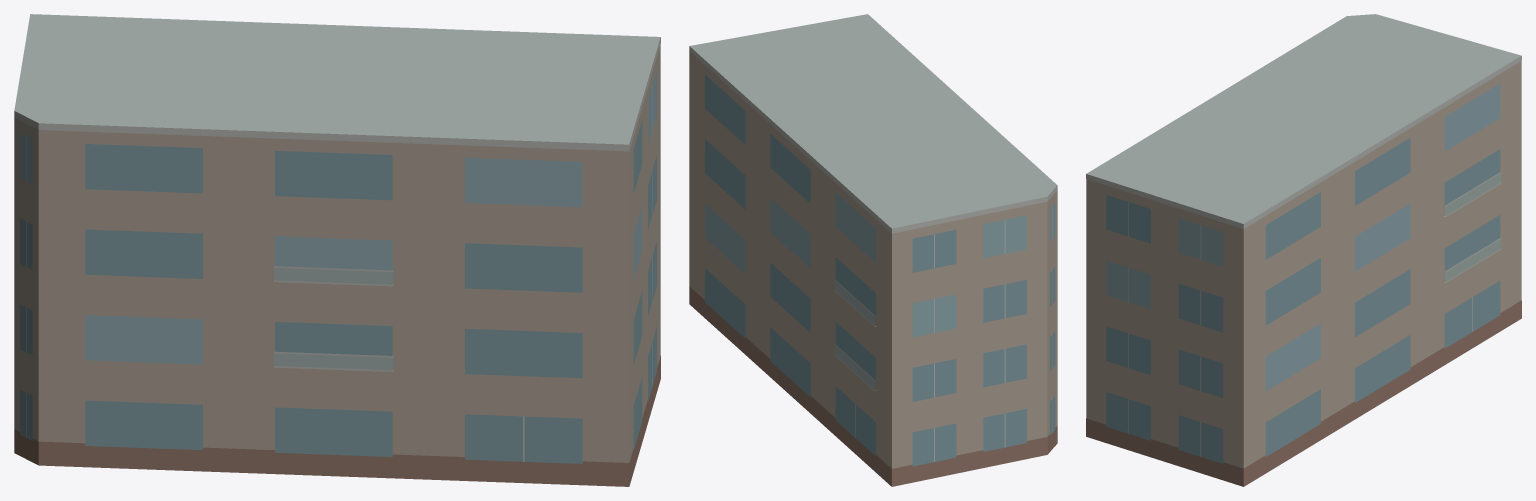
The model's file is survey-upis-32741864.glb.
3 renders of one model, left to right at view 1: azimuth 30°, elevation 25°; view 2: azimuth 150°, elevation 25°; view 3: azimuth 270°, elevation 25°, orthographic. The views are drawn at different scales.
Parts seen in each view (by area): view 1: survey-upis-32741864.tmp; view 2: survey-upis-32741864.tmp; view 3: survey-upis-32741864.tmp.
Part boxes in pixels (left/top/right/bottom): survey-upis-32741864.tmp: left=14, top=14, right=660, bottom=486; survey-upis-32741864.tmp: left=689, top=14, right=1057, bottom=486; survey-upis-32741864.tmp: left=1086, top=14, right=1521, bottom=486.
Size of the model in its own units: 21.43 by 12.5 by 18.79.
